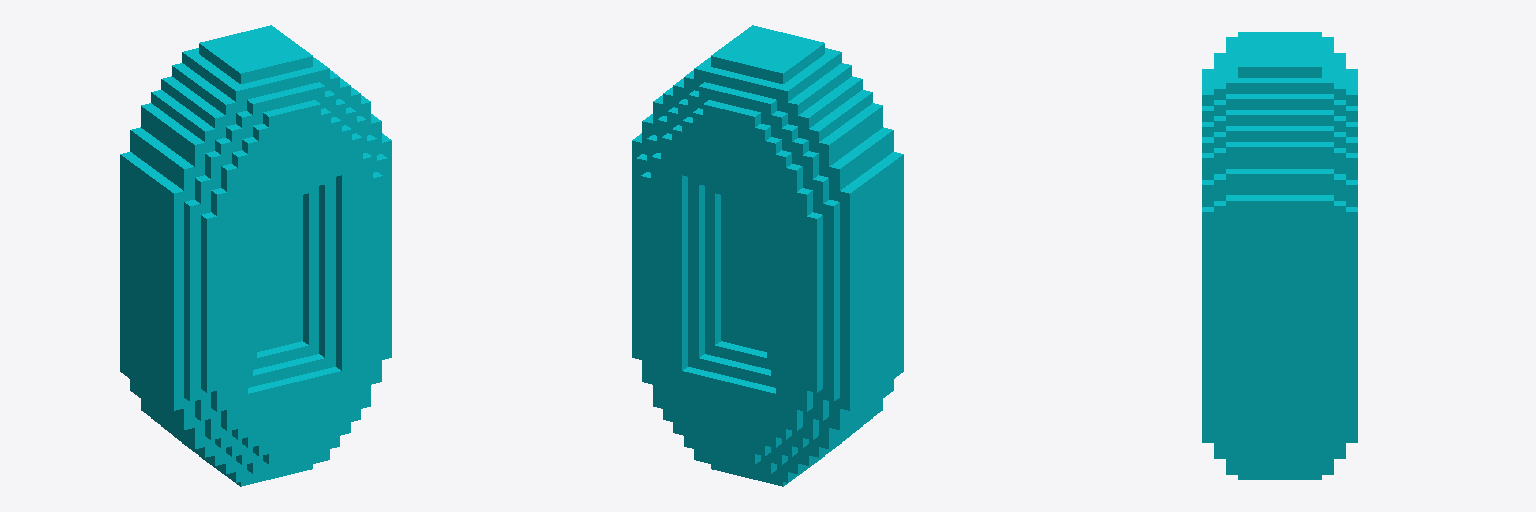
3 views of the same model, side by side, from view 1: azimuth 30°, elevation 25°; view 2: azimuth 150°, elevation 25°; view 3: azimuth 270°, elevation 25° (orthographic).
Parts seen in each view (by area): view 1: object 1; view 2: object 1; view 3: object 1.
Boxes of the visible parts, x1,y1,x2,y2 form: object 1: [120, 25, 391, 486]; object 1: [632, 25, 903, 486]; object 1: [1202, 32, 1357, 479].
Bounding box in the file's own units: 2.1 × 3.8 × 1.3.
Materials: 1 (1 with a texture image).